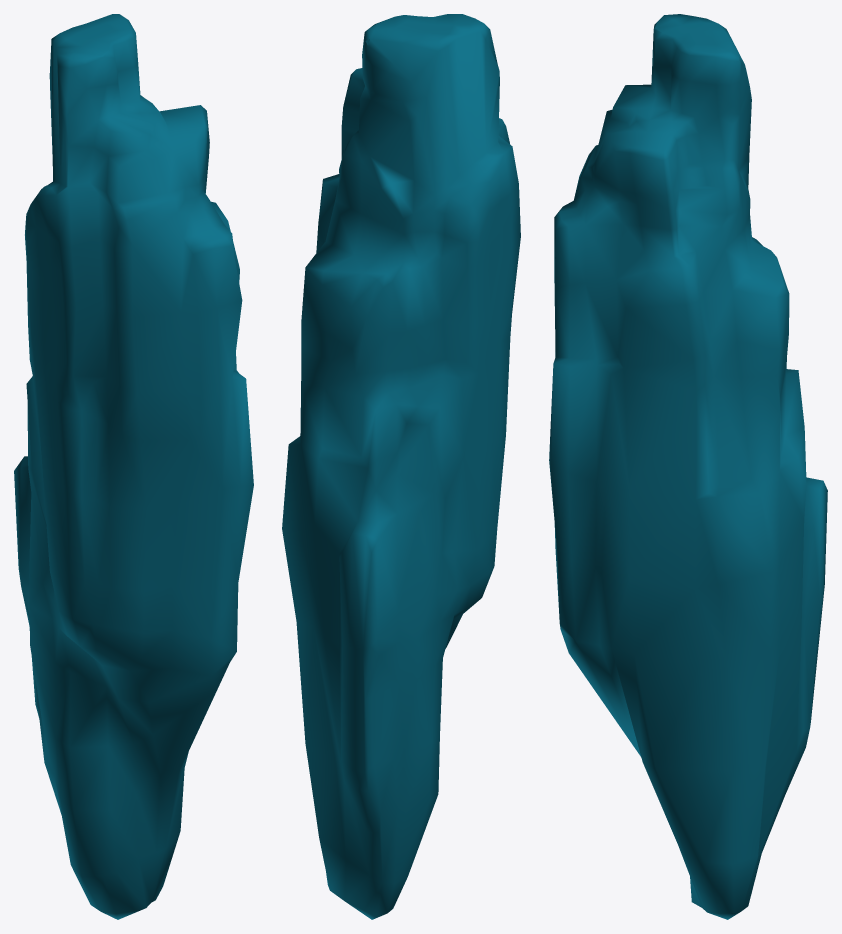
The model's file is RockBigSize_2.FBX.
The picture shows the model from 3 angles, left to right: view 1: azimuth 30°, elevation 25°; view 2: azimuth 150°, elevation 25°; view 3: azimuth 270°, elevation 25°; orthographic projection. The views are drawn at different scales.
Parts seen in each view (by area): view 1: big_rock_02_low; view 2: big_rock_02_low; view 3: big_rock_02_low.
Boxes of the visible parts, x1,y1,x2,y2 form: big_rock_02_low: (14,14,253,919); big_rock_02_low: (282,14,520,919); big_rock_02_low: (549,14,827,919).
Size of the model in its own units: 402 by 1969 by 574.
